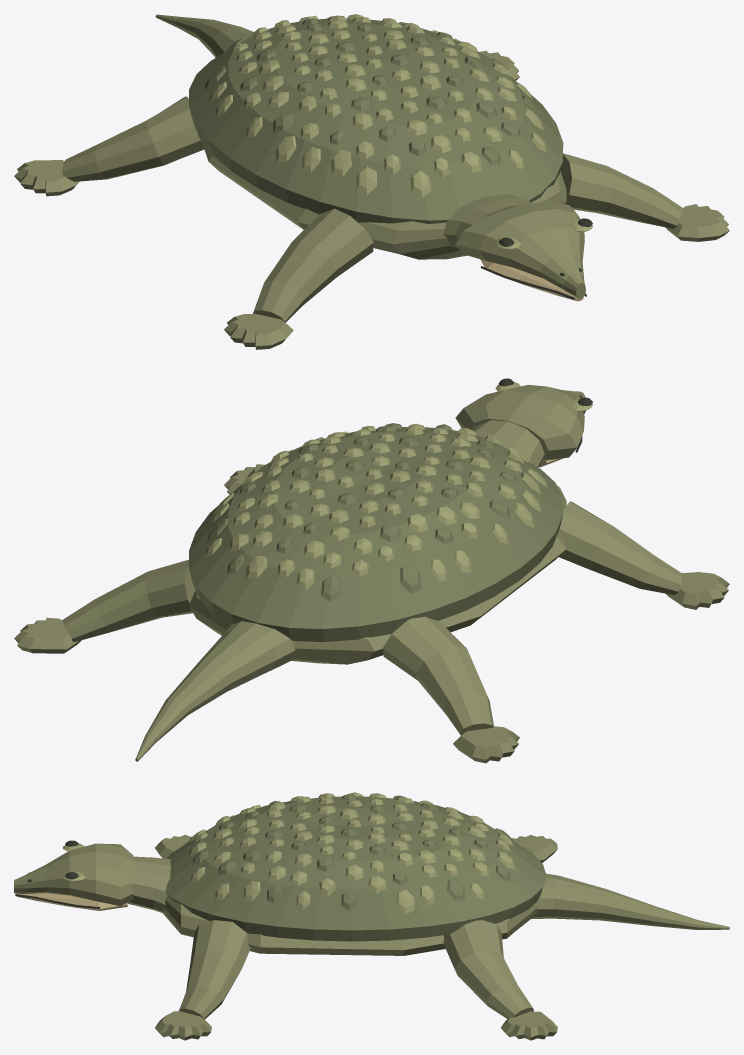
3 views of the same model, one above another, from view 1: azimuth 30°, elevation 25°; view 2: azimuth 150°, elevation 25°; view 3: azimuth 270°, elevation 25° (orthographic). The views are drawn at different scales.
Parts seen in each view (by area): view 1: Carapace_low_oval, Body_neck_four_limbs_tail, Subtle_polygonal_osteoderms, Broad_skull_and_pointed_rostrum, Eyes_nostrils_and_closed_mouth; view 2: Carapace_low_oval, Body_neck_four_limbs_tail, Subtle_polygonal_osteoderms, Broad_skull_and_pointed_rostrum; view 3: Carapace_low_oval, Body_neck_four_limbs_tail, Subtle_polygonal_osteoderms, Broad_skull_and_pointed_rostrum.
Part boxes in pixels (left/top/right/bottom): Carapace_low_oval: left=189, top=18, right=563, bottom=223; Body_neck_four_limbs_tail: left=14, top=14, right=729, bottom=349; Subtle_polygonal_osteoderms: left=205, top=14, right=546, bottom=197; Broad_skull_and_pointed_rostrum: left=455, top=202, right=585, bottom=301; Eyes_nostrils_and_closed_mouth: left=480, top=218, right=592, bottom=299; Carapace_low_oval: left=189, top=427, right=563, bottom=641; Body_neck_four_limbs_tail: left=14, top=420, right=729, bottom=763; Subtle_polygonal_osteoderms: left=206, top=423, right=547, bottom=601; Broad_skull_and_pointed_rostrum: left=455, top=385, right=585, bottom=467; Carapace_low_oval: left=165, top=796, right=546, bottom=941; Body_neck_four_limbs_tail: left=127, top=835, right=729, bottom=1040; Subtle_polygonal_osteoderms: left=189, top=792, right=515, bottom=914; Broad_skull_and_pointed_rostrum: left=14, top=843, right=133, bottom=910.
Size of the model in its own units: 0.592 by 0.1706 by 0.9004.
